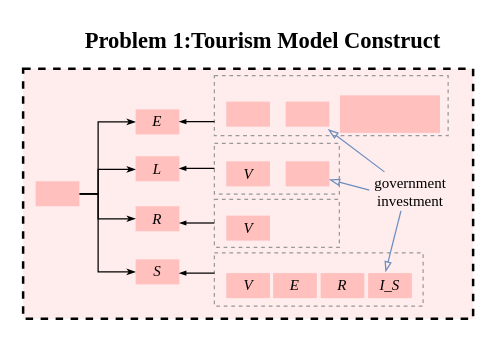
Image size: 495x341. Some labels were removed from this diagram. Here are the shapes that lost their labels. From the top down, the box of each, then its label:
(226, 101, 269, 126): V , C
(285, 101, 329, 126): I_E
(339, 95, 439, 132): Environmental self-recovery
(35, 181, 79, 206): STI
(285, 161, 329, 186): I_L
